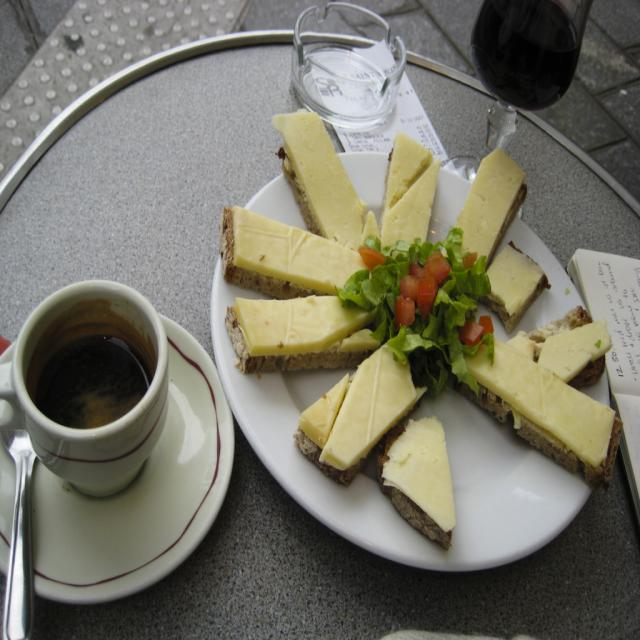Coffee: (7, 276, 172, 519)
